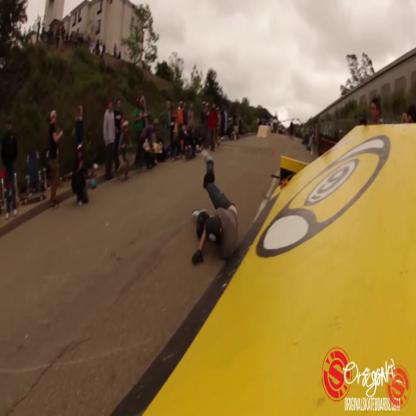Fall_Down: (190, 148, 240, 266)
